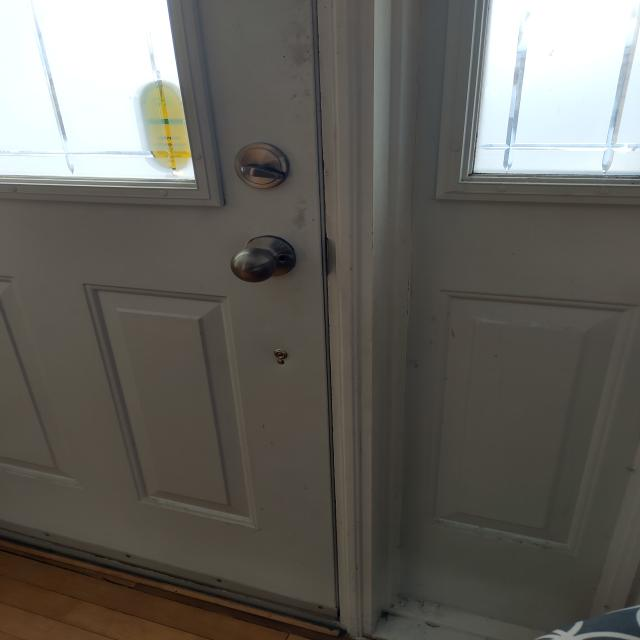door-knob: (231, 236, 296, 282)
